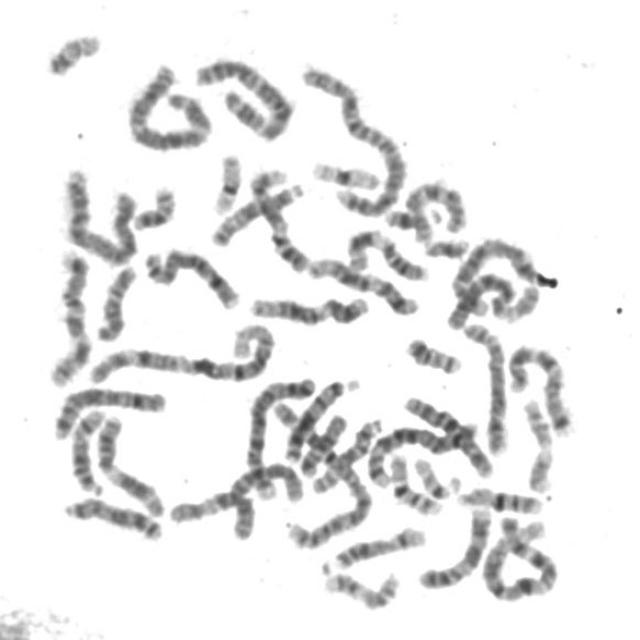A1: (81, 317, 279, 386), (475, 511, 562, 604)
A2: (296, 55, 408, 221), (266, 393, 376, 555)
A3: (188, 49, 296, 141), (121, 56, 215, 154)
B4: (240, 369, 320, 504), (56, 160, 142, 268)
B5: (361, 414, 482, 490), (445, 236, 538, 316)
C10: (401, 394, 494, 480), (398, 172, 469, 243)
C11: (90, 407, 168, 520), (339, 222, 432, 283)
C12: (303, 249, 420, 317), (244, 288, 371, 326)
C6: (222, 454, 306, 541), (442, 273, 542, 330)
C7: (502, 336, 577, 439), (41, 242, 93, 390)
C8: (456, 314, 514, 457), (136, 241, 242, 311)
C9: (242, 161, 312, 274), (412, 499, 493, 592)
D13: (278, 371, 361, 467), (56, 490, 165, 543)
D14: (320, 519, 428, 574), (62, 402, 108, 496)
D15: (204, 175, 305, 248), (303, 410, 385, 498)
E16: (383, 447, 446, 517), (450, 479, 546, 516)
E17: (316, 562, 402, 612), (516, 392, 558, 494)
E18: (89, 258, 139, 343), (294, 407, 348, 479)
F19: (305, 152, 384, 192), (205, 146, 245, 216)
F20: (398, 330, 464, 375), (126, 178, 178, 232)
G21: (378, 200, 436, 243), (418, 231, 471, 260)
G22: (407, 449, 461, 498), (41, 33, 101, 77)
X: (45, 379, 169, 442)
